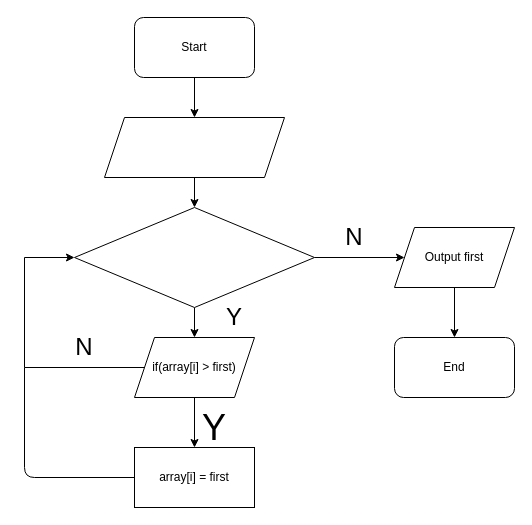
Image size: 532x525. Some labels were removed from this diagram. The centre of each missing label's shape, as x and y in pixels:
"for(int i = 0; i < array.size;i++)" belongs at pixel 194 257.
"Input Array Int first" belongs at pixel 194 147.
